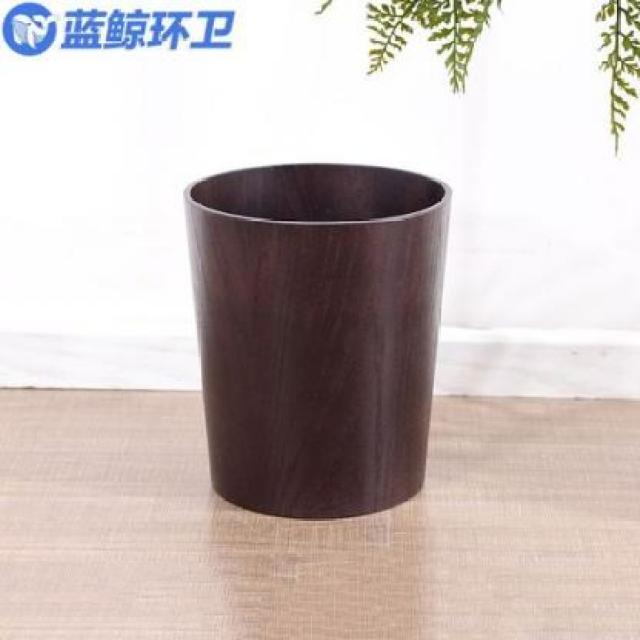dustbin: (178, 157, 458, 526)
